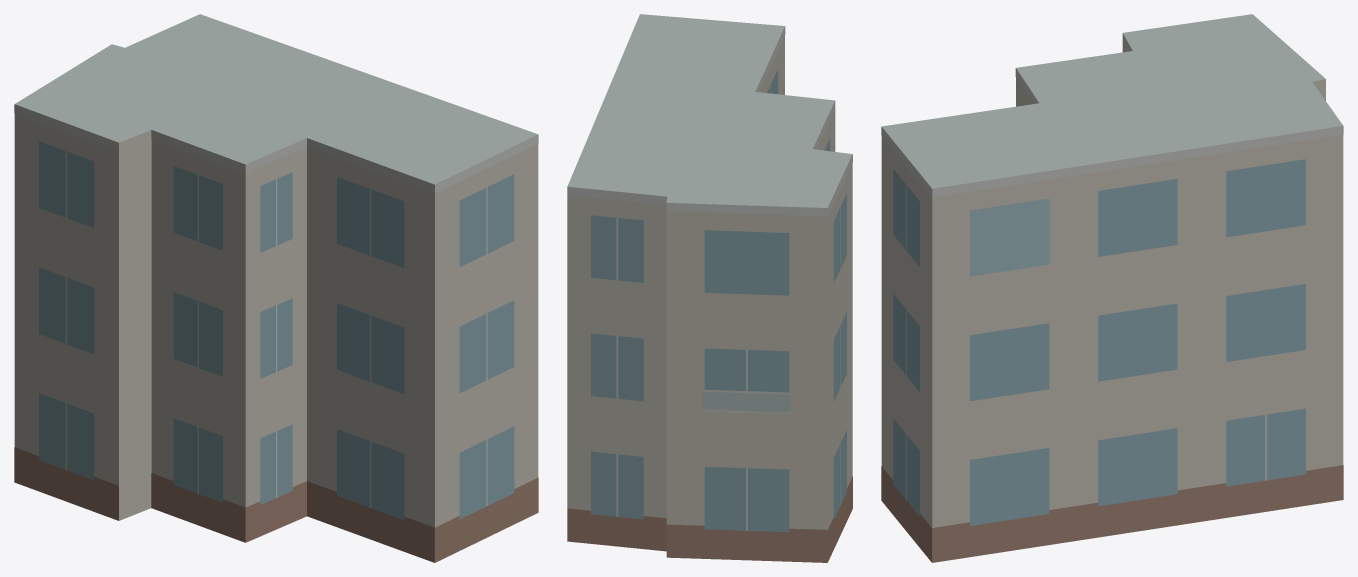
File: survey-upis-32512378.glb
3 views of the same model, side by side, from view 1: azimuth 30°, elevation 25°; view 2: azimuth 150°, elevation 25°; view 3: azimuth 270°, elevation 25° (orthographic). The views are drawn at different scales.
Parts seen in each view (by area): view 1: survey-upis-32512378.tmp; view 2: survey-upis-32512378.tmp; view 3: survey-upis-32512378.tmp.
Part boxes in pixels (x1,y1,x2,y2): survey-upis-32512378.tmp: [14, 14, 538, 562]; survey-upis-32512378.tmp: [567, 14, 852, 562]; survey-upis-32512378.tmp: [881, 14, 1343, 562].
Bounding box in the file's own units: 10.23 × 10.2 × 11.43.
